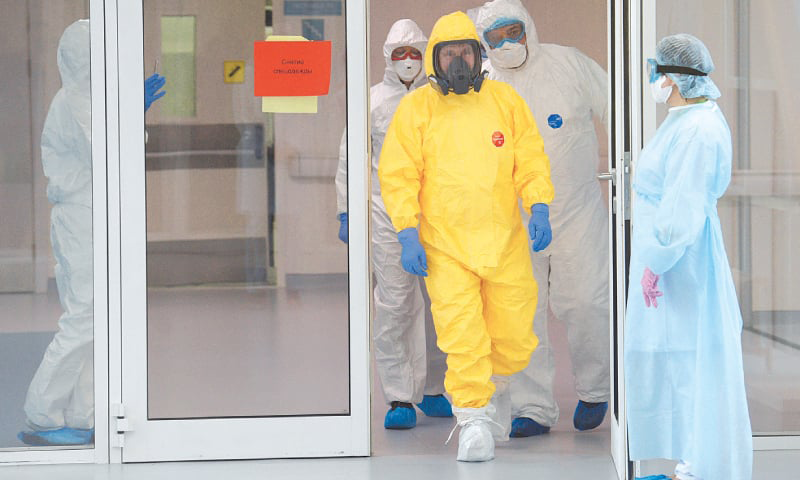Coverall: (382, 7, 541, 412), (481, 1, 609, 420), (626, 107, 747, 480), (19, 16, 95, 448)
Gloves: (395, 227, 430, 277), (523, 203, 554, 253)
Goggles: (484, 19, 528, 48), (645, 53, 676, 81), (388, 43, 426, 60)
with_mask: (648, 55, 687, 107), (489, 43, 528, 70), (390, 59, 424, 83)
